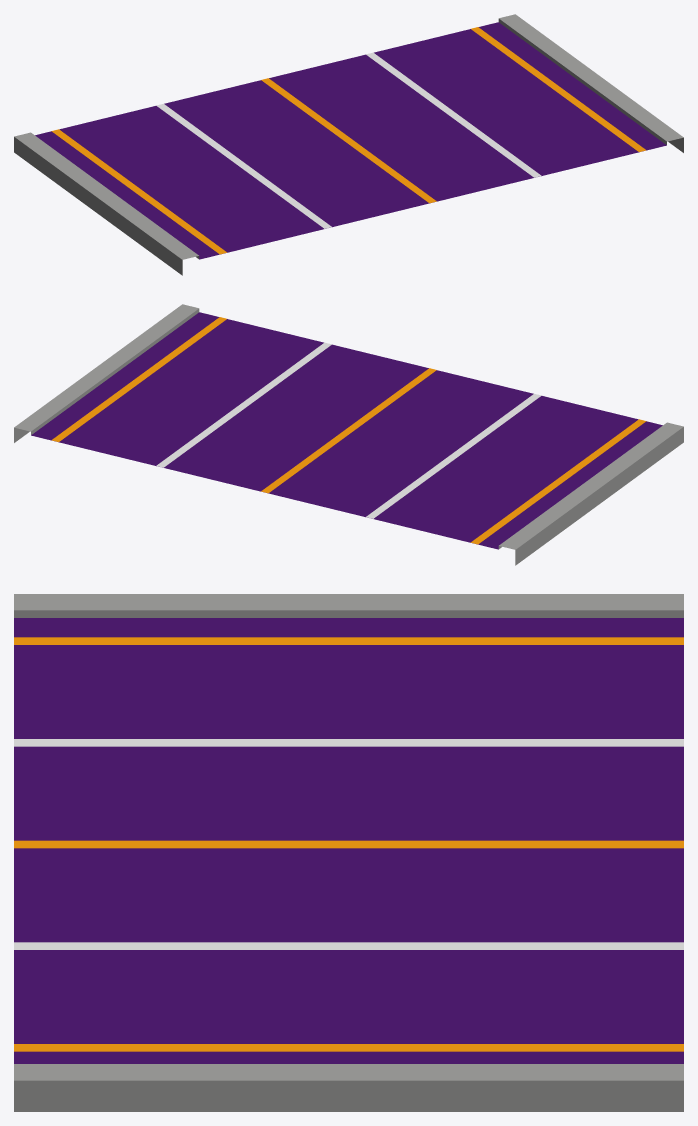
Rendered from Road_C_2L_2_2.fbx.
3 renders of one model, top to bottom at view 1: azimuth 30°, elevation 25°; view 2: azimuth 150°, elevation 25°; view 3: azimuth 270°, elevation 25°, orthographic. The views are drawn at different scales.
Parts seen in each view (by area): view 1: Road_C_2L_2_2; view 2: Road_C_2L_2_2; view 3: Road_C_2L_2_2.
Part boxes in pixels (left/top/right/bottom): Road_C_2L_2_2: left=14, top=14, right=683, bottom=275; Road_C_2L_2_2: left=14, top=304, right=683, bottom=565; Road_C_2L_2_2: left=14, top=594, right=683, bottom=1111.
Size of the model in its own units: 1375 by 41.48 by 800.
